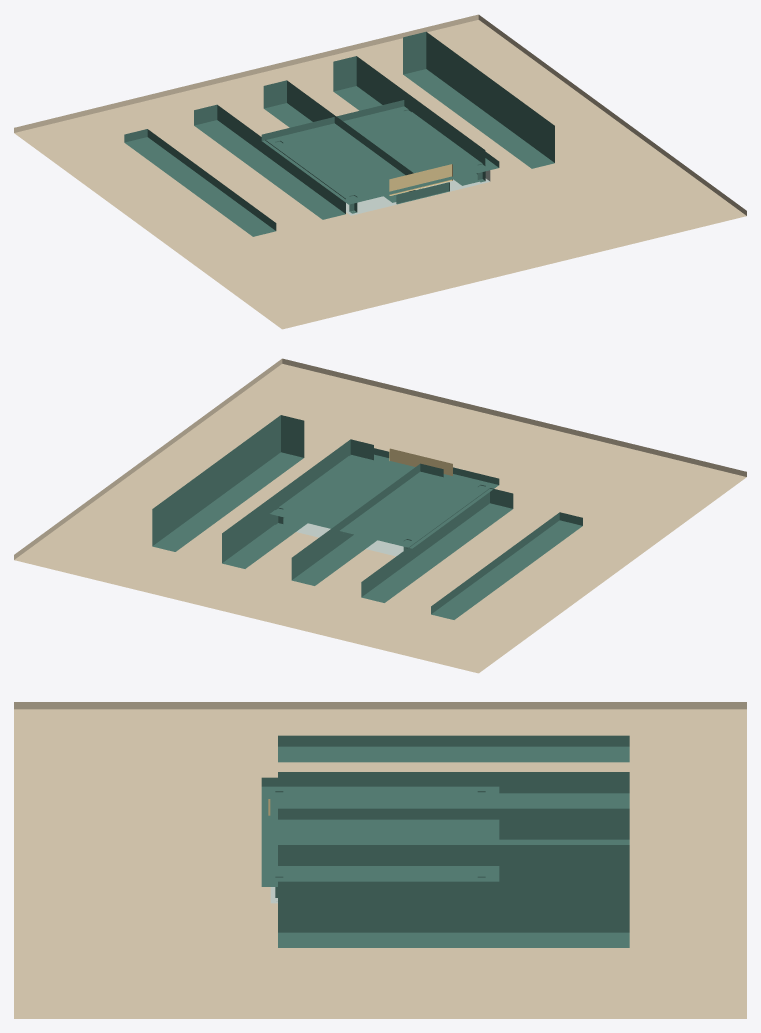
The model's file is quarry.glb.
3 views of the same model, one above another, from view 1: azimuth 30°, elevation 25°; view 2: azimuth 150°, elevation 25°; view 3: azimuth 270°, elevation 25° (orthographic). The views are drawn at different scales.
Parts seen in each view (by area): view 1: Foundation, Details, Roof, Walls; view 2: Foundation, Details, Roof, Walls; view 3: Foundation, Details, Roof.
Boxes of the visible parts, x1,y1,x2,y2 form: Foundation: (14,14,746,329); Details: (124,31,554,236); Roof: (261,100,499,204); Walls: (346,170,490,215); Foundation: (14,358,746,673); Details: (152,415,582,619); Roof: (270,448,499,548); Walls: (296,523,403,556); Foundation: (14,702,746,1018); Details: (268,735,629,947); Roof: (261,777,499,886).
Bounding box in the file's own units: 60 × 5.27 × 60.
